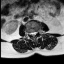CCS_normal: (32, 29, 34, 39)
LFS_normal: (36, 27, 38, 35)
LLS_normal: (34, 29, 36, 37)
RFS_normal: (28, 29, 30, 36)
RLS_normal: (30, 29, 32, 37)
